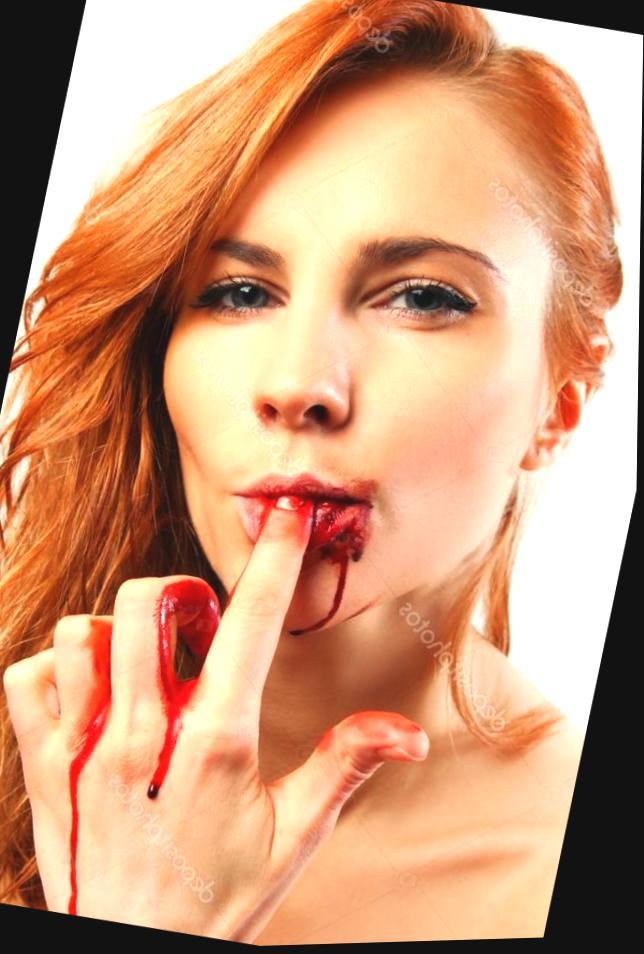Fire: (151, 579, 223, 800), (285, 474, 378, 639), (71, 618, 122, 916), (332, 715, 432, 761)
